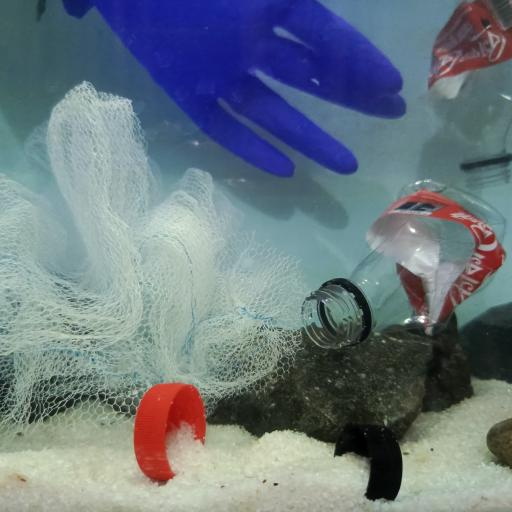bottle_cap: (135, 382, 205, 483), (335, 422, 402, 501)
glove: (65, 0, 407, 180)
net: (0, 80, 314, 430)
plastic_bottle: (302, 179, 512, 349), (426, 0, 512, 188)
